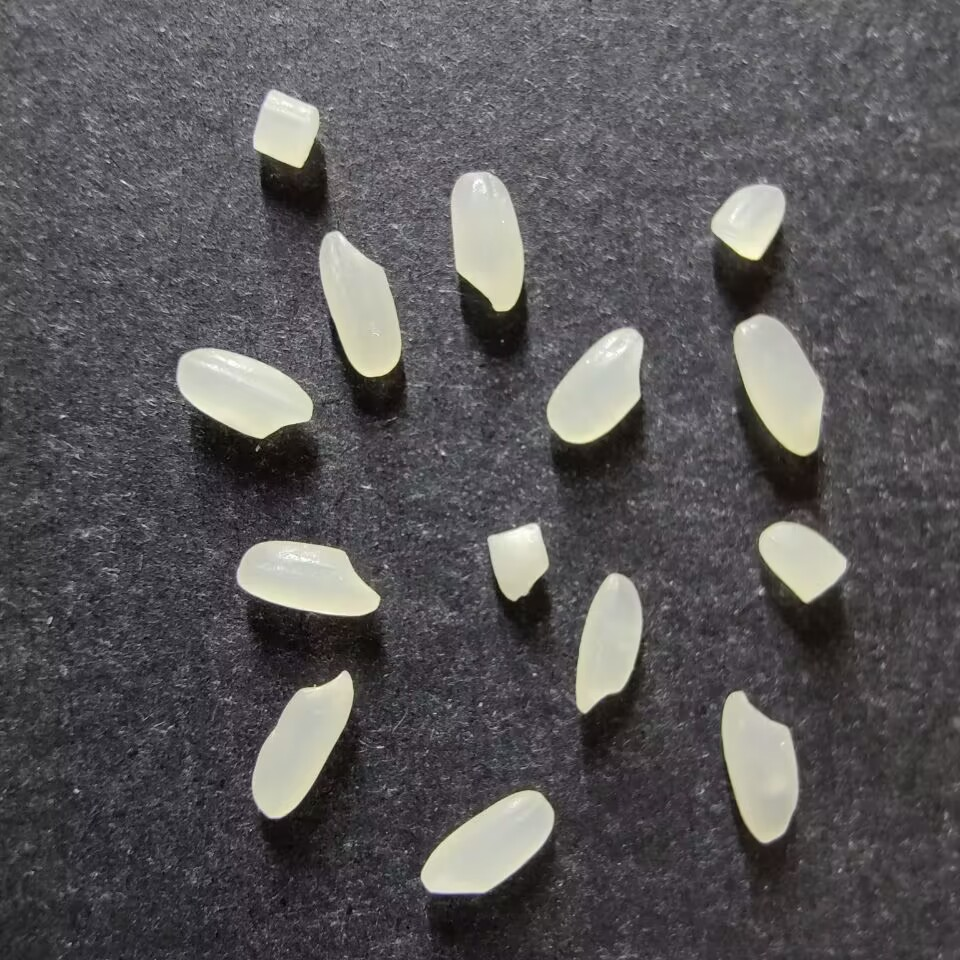broken: (758, 520, 848, 604), (711, 184, 786, 260), (251, 89, 319, 169), (487, 523, 551, 601)
rice: (251, 667, 354, 819), (420, 789, 555, 895), (733, 314, 825, 455), (177, 346, 314, 438), (318, 230, 403, 377), (721, 690, 799, 844), (547, 326, 645, 444), (237, 539, 381, 617), (450, 170, 526, 311), (575, 571, 644, 714)
